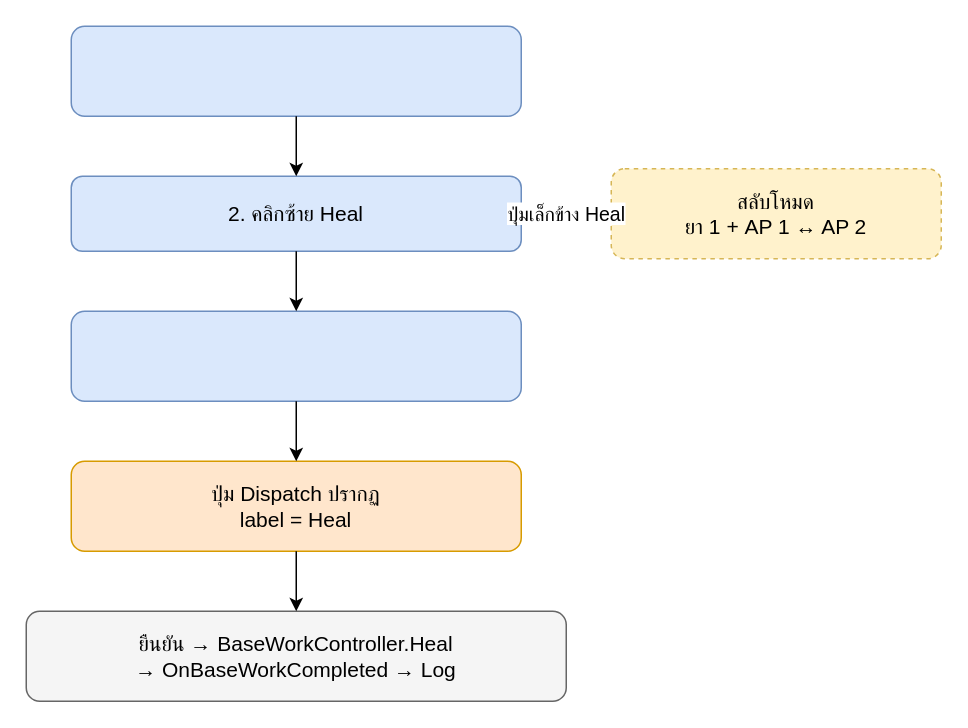
The diagram is 968 pixels wide and 728 high, and some of its shapes have lost their labels. Here are the shapes that lost their labels. From the top down, the box of each, then its label:
(70, 25, 521, 116): 1. คลิกซ้ายการ์ดตัวละคร (ผู้รักษา 1 ใบ)
(70, 310, 521, 401): 3. เลือกการ์ดผู้ป่วย 1 ใบ (เฉพาะ UnitState.Hurt)
